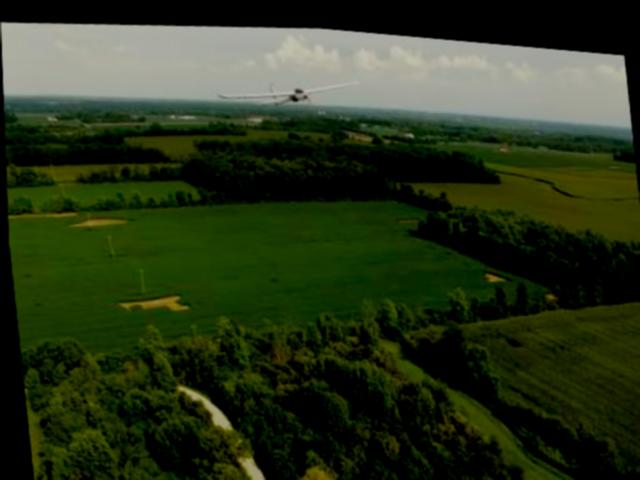uav: (211, 61, 362, 119)
